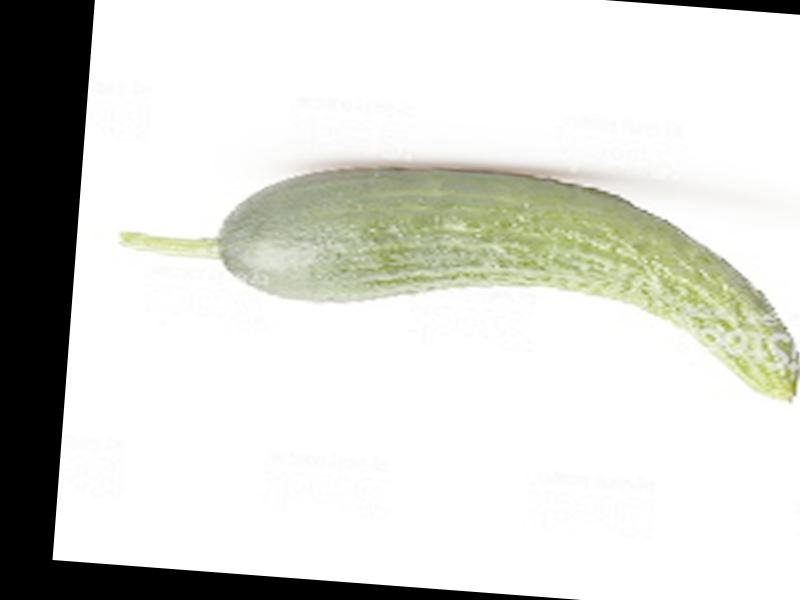Cucumber: (110, 143, 800, 401)
